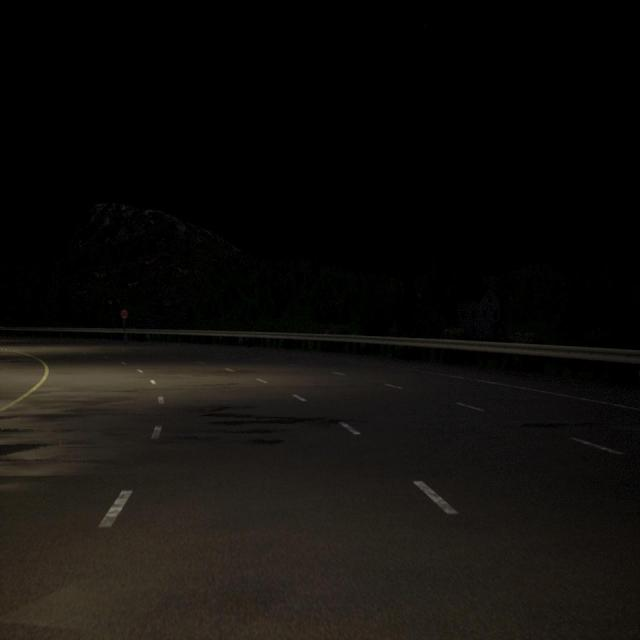Traffic_Signs: (121, 310, 128, 318)
